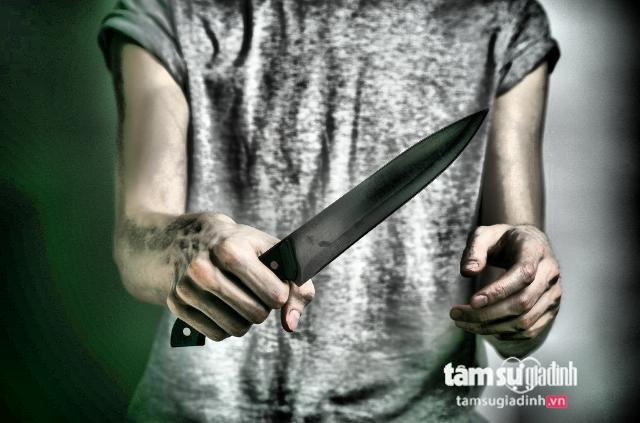knife: (231, 98, 494, 338)
